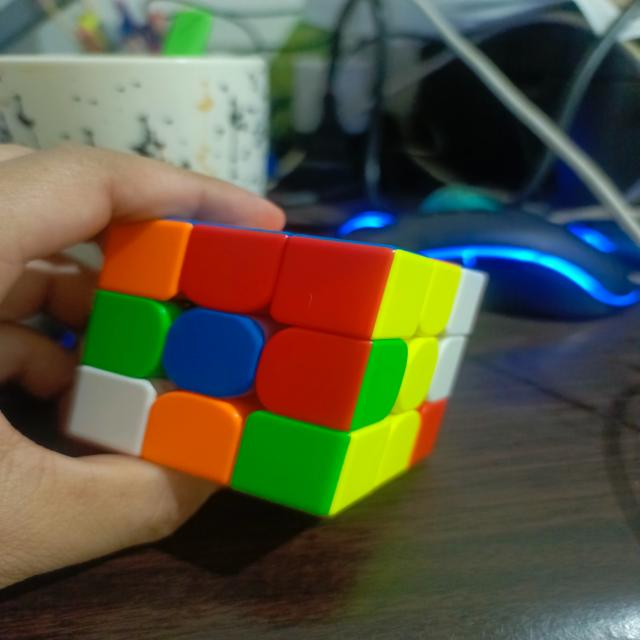rubik: (64, 217, 489, 518)
